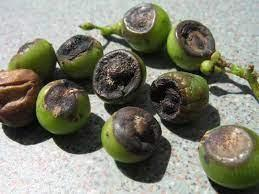Grape Rotten: (1, 1, 258, 188), (100, 105, 162, 164), (36, 78, 90, 136)
